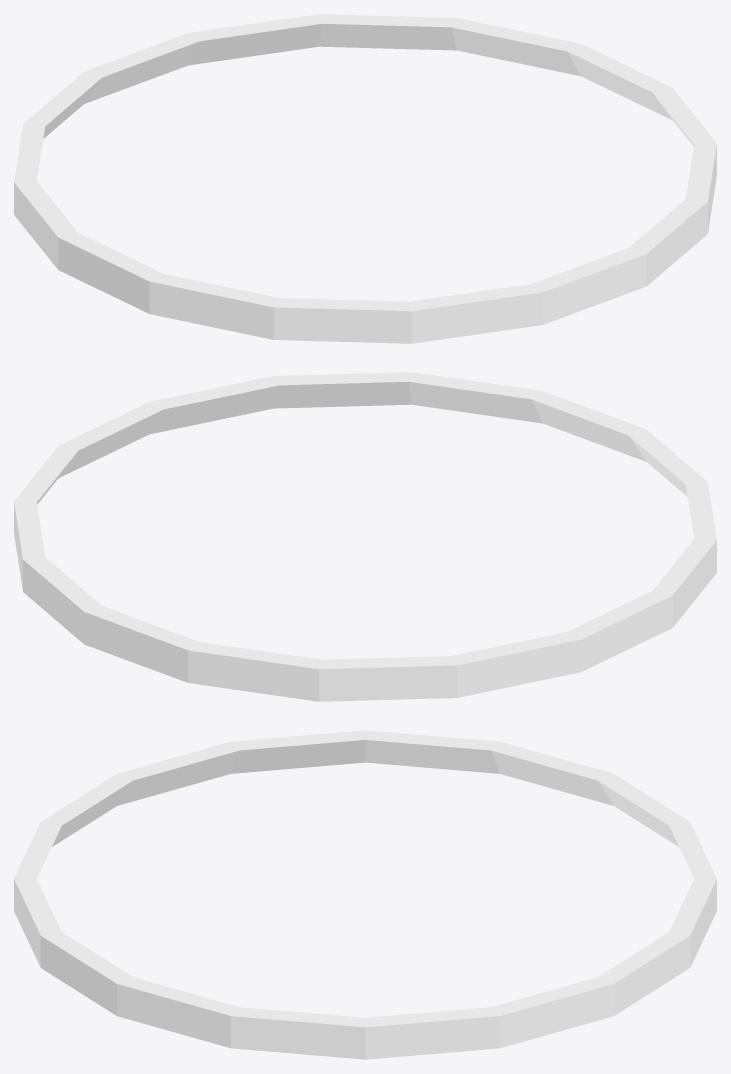
File: Ring_White_Light.glb
The picture shows the model from 3 angles, top to bottom: view 1: azimuth 30°, elevation 25°; view 2: azimuth 150°, elevation 25°; view 3: azimuth 270°, elevation 25°; orthographic projection.
Visible parts, largest first — view 1: Cylinder.015; view 2: Cylinder.015; view 3: Cylinder.015.
Part boxes in pixels (x1=…): Cylinder.015: x1=14, y1=14, x2=716, y2=343; Cylinder.015: x1=14, y1=372, x2=716, y2=701; Cylinder.015: x1=14, y1=730, x2=716, y2=1059.
Bounding box in the file's own units: 2 × 0.1015 × 2.
Materials: 1 (1 with a texture image).
